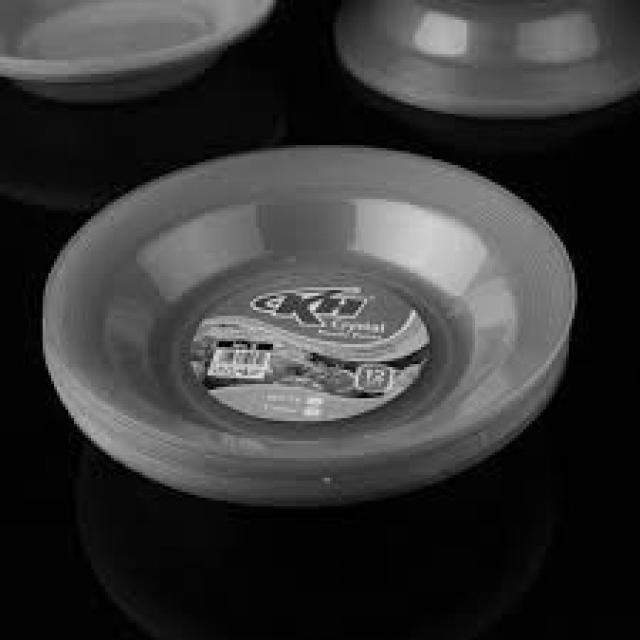dish: (22, 101, 603, 566)
